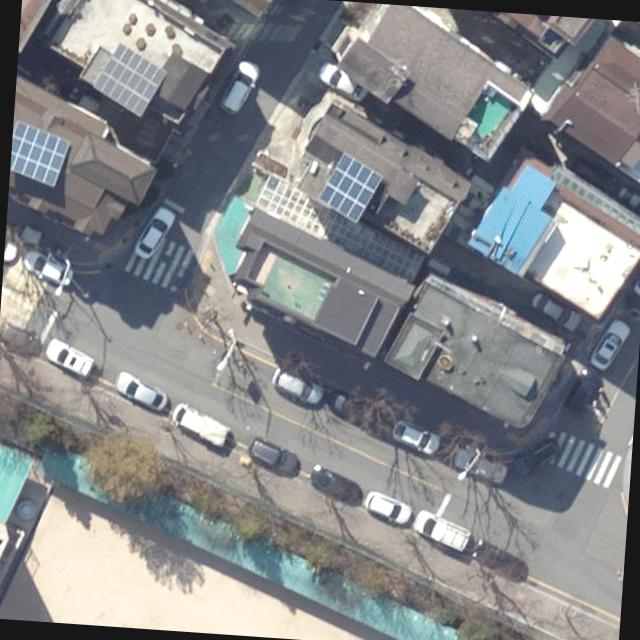solar: (92, 40, 171, 120), (314, 148, 387, 226), (10, 119, 73, 189)
